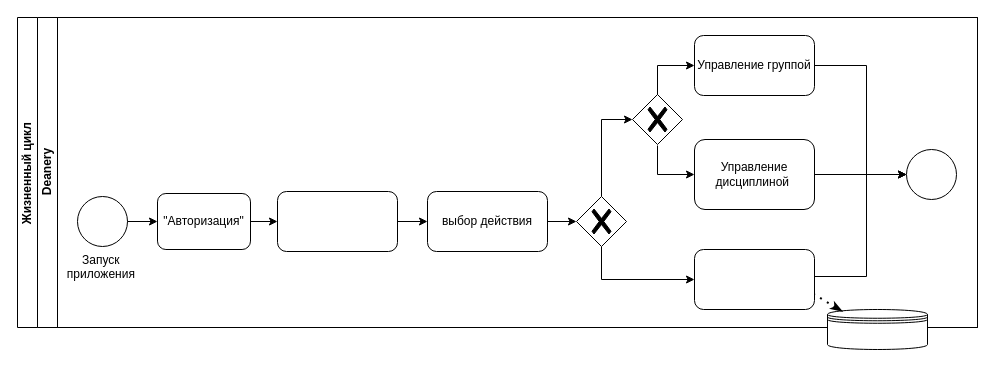
This 995x367 diagram has some shape labels left out. Each missing label, with the centre of its shape:
"закрытие приложения" belongs at (931,174).
"Отображение данных о сотруднике" belongs at (337,221).
"рассмотрение заявок на поступление" belongs at (754,279).
